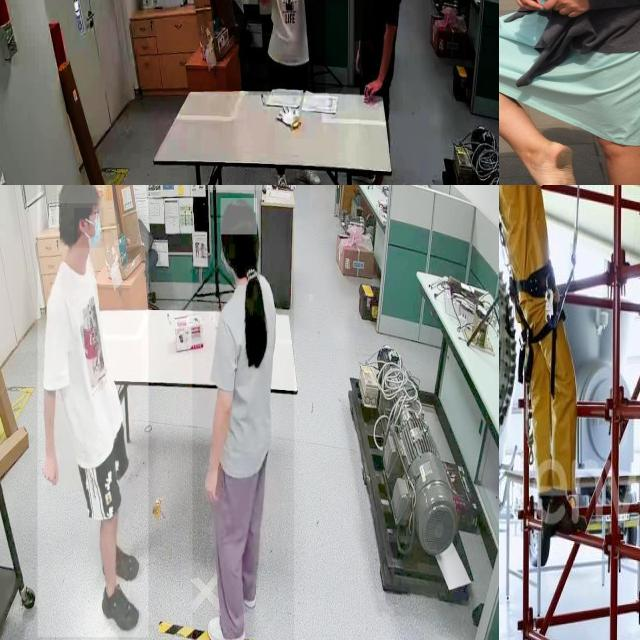Barefoots: (540, 141, 577, 185)
Harness: (510, 261, 565, 396)
face_mask: (74, 208, 104, 248)
hand_noglove: (202, 465, 220, 503), (41, 452, 60, 486), (362, 77, 382, 101), (354, 41, 362, 74)
head_nohelmet: (220, 198, 258, 235), (57, 185, 100, 204)
person: (37, 185, 148, 638), (192, 190, 294, 640), (248, 0, 325, 96), (354, 0, 405, 101)
shoes: (98, 580, 140, 636), (100, 545, 142, 580), (204, 610, 247, 640), (297, 166, 322, 185), (273, 167, 290, 185)
